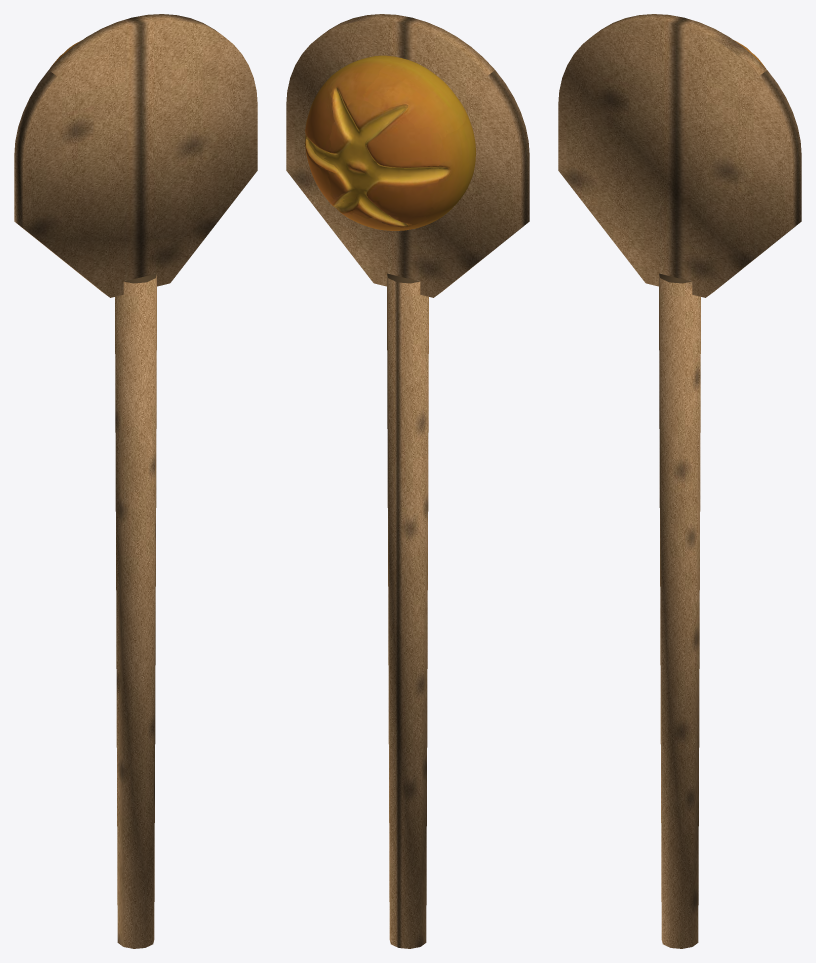
The model's file is bread-peel.glb.
3 views of the same model, side by side, from view 1: azimuth 30°, elevation 25°; view 2: azimuth 150°, elevation 25°; view 3: azimuth 330°, elevation 25° (orthographic).
Parts seen in each view (by area): view 1: peel; view 2: peel, baked.loaf; view 3: peel.
Boxes of the visible parts, x1,y1,x2,y2 form: peel: (14,14,257,948); peel: (286,14,529,948); baked.loaf: (305,55,475,230); peel: (558,14,801,948).
Size of the model in its own units: 0.94 by 3.52 by 0.4343.
3 materials, 3 textured.
